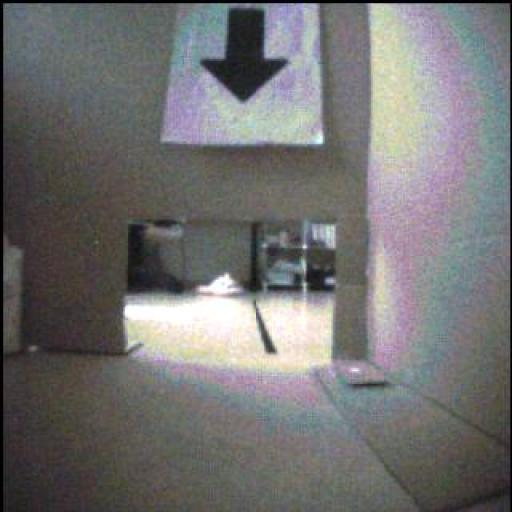arrow: (203, 9, 289, 102)
